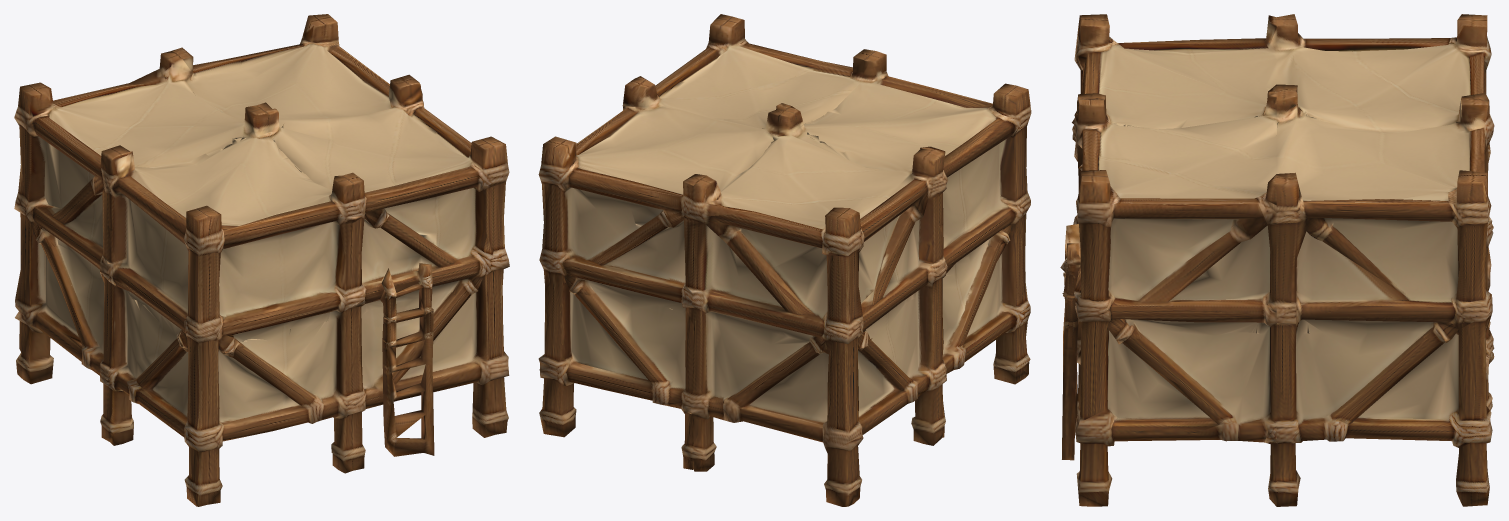
Rendered from source_2.glb.
3 renders of one model, left to right at view 1: azimuth 30°, elevation 25°; view 2: azimuth 150°, elevation 25°; view 3: azimuth 270°, elevation 25°, orthographic. The views are drawn at different scales.
Parts seen in each view (by area): view 1: tripo_node_41bd909f-aecd-4510-ba2d-a9b8d386cfde; view 2: tripo_node_41bd909f-aecd-4510-ba2d-a9b8d386cfde; view 3: tripo_node_41bd909f-aecd-4510-ba2d-a9b8d386cfde.
Boxes of the visible parts, x1,y1,x2,y2 form: tripo_node_41bd909f-aecd-4510-ba2d-a9b8d386cfde: (14, 14, 509, 506); tripo_node_41bd909f-aecd-4510-ba2d-a9b8d386cfde: (538, 14, 1031, 506); tripo_node_41bd909f-aecd-4510-ba2d-a9b8d386cfde: (1060, 14, 1494, 506).
Bounding box in the file's own units: 0.9314 × 0.8303 × 0.9767.
Materials: 1 (1 with a texture image).
